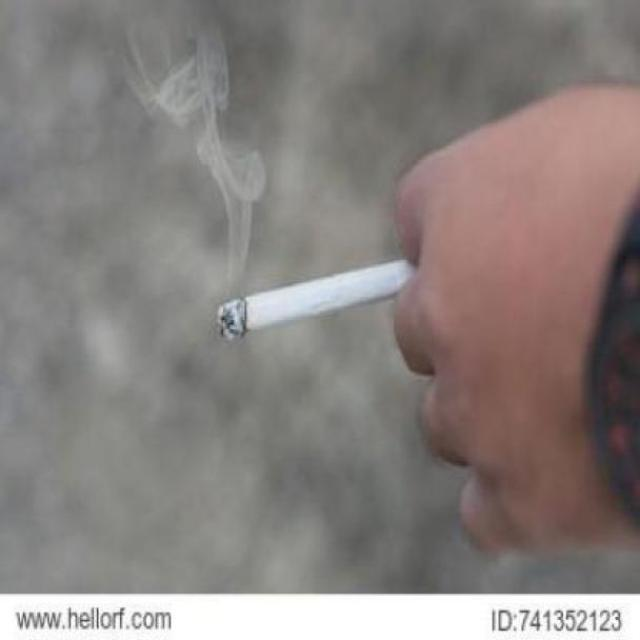rokok: (213, 256, 415, 342)
